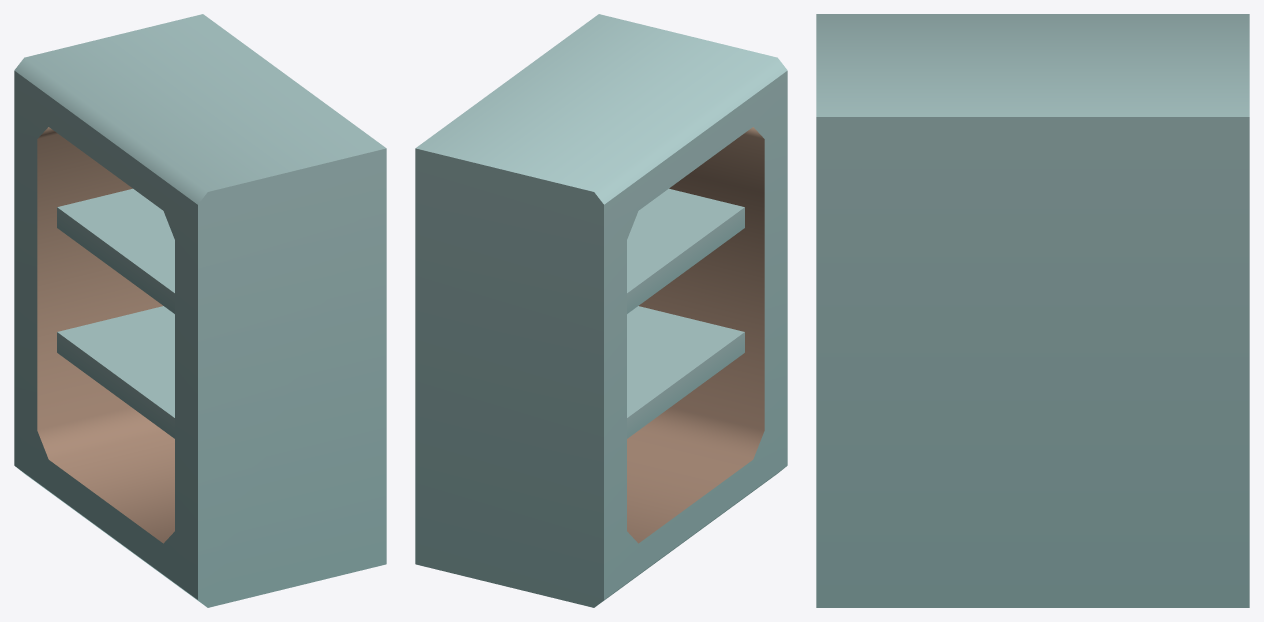
The model's file is cabinet-decorative-upper-open-narrow (%wall).glb.
3 renders of one model, left to right at view 1: azimuth 30°, elevation 25°; view 2: azimuth 150°, elevation 25°; view 3: azimuth 270°, elevation 25°, orthographic. The views are drawn at different scales.
Parts seen in each view (by area): view 1: cabinet-decorative-upper-open-narrow (%wall); view 2: cabinet-decorative-upper-open-narrow (%wall); view 3: cabinet-decorative-upper-open-narrow (%wall).
Part boxes in pixels (x1,y1,x2,y2): cabinet-decorative-upper-open-narrow (%wall): [14, 14, 386, 607]; cabinet-decorative-upper-open-narrow (%wall): [415, 14, 787, 607]; cabinet-decorative-upper-open-narrow (%wall): [816, 14, 1249, 607].
Size of the model in its own units: 0.2375 by 0.5 by 0.4.
